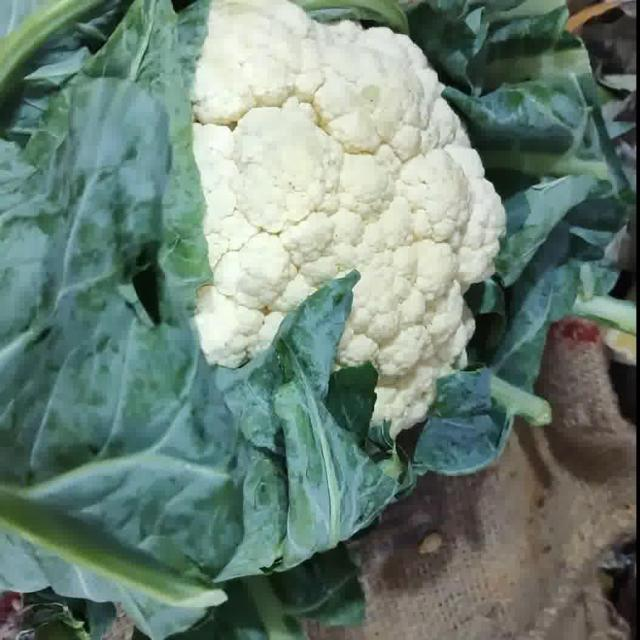Cauliflower: (193, 0, 505, 441)
